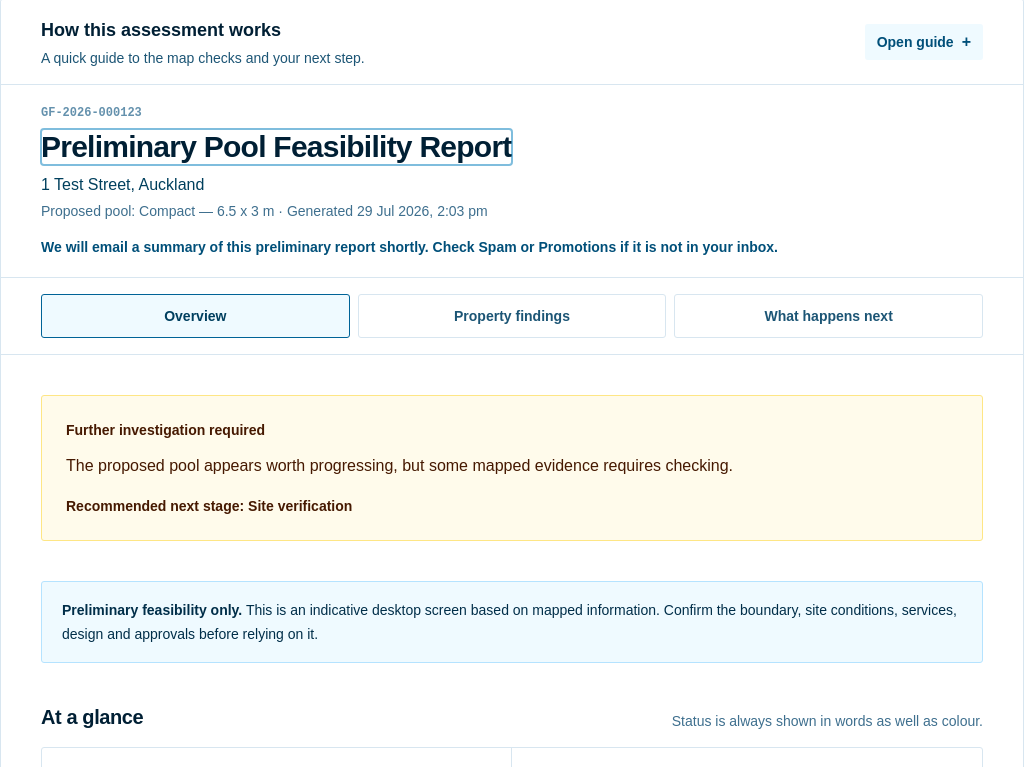
Scenario: homeowner report submission › shows the saved report without PDF download controls or requests
The image size is (1024, 767).
Check: the heading "Preliminary Pool Feasibility Report" is shown, box [41,129,512,165]
Check: the text "GF-2026-000123" is shown, box [41,106,142,120]
Click the tab "What happens next".
click(829, 316)  # box [674,294,983,338]
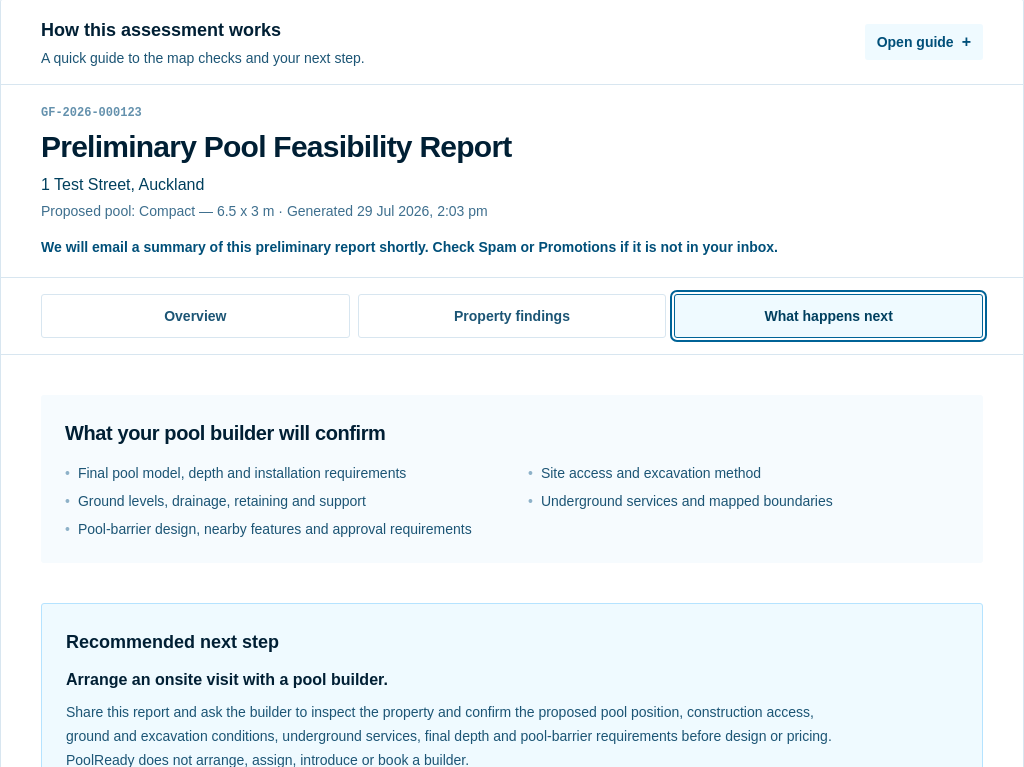
Click the tab "Property findings".
click(512, 316)  # box [358,294,666,338]
(page scrolled)
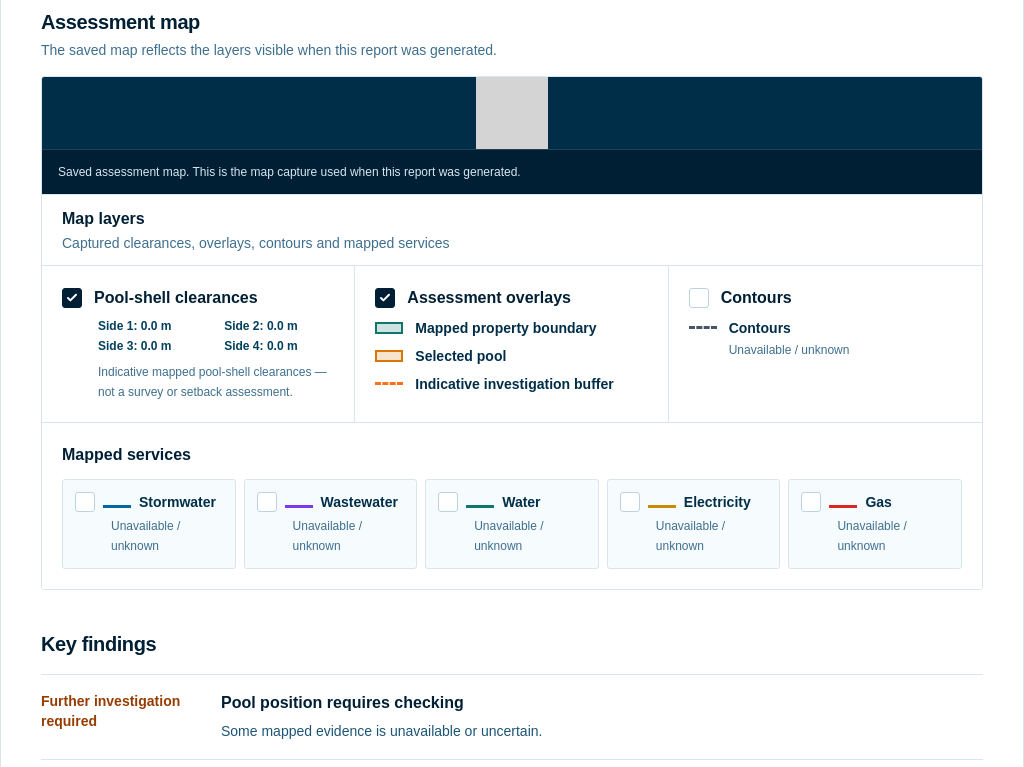
Check: the heading "Map layers" is shown, box [62,210,145,227]
Check: the text "Mapped property boundary" is shown, box [415,318,596,338]
Check: the text "Selected pool" is shown, box [415,346,506,366]
